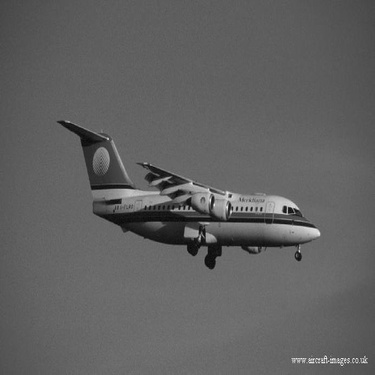airplane: (44, 87, 333, 275)
